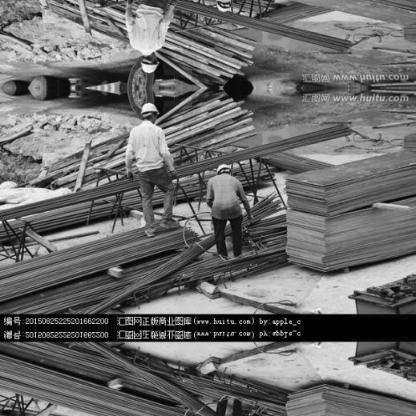helmet: (140, 101, 159, 122), (140, 53, 159, 74), (216, 163, 235, 180), (215, 0, 235, 12)
